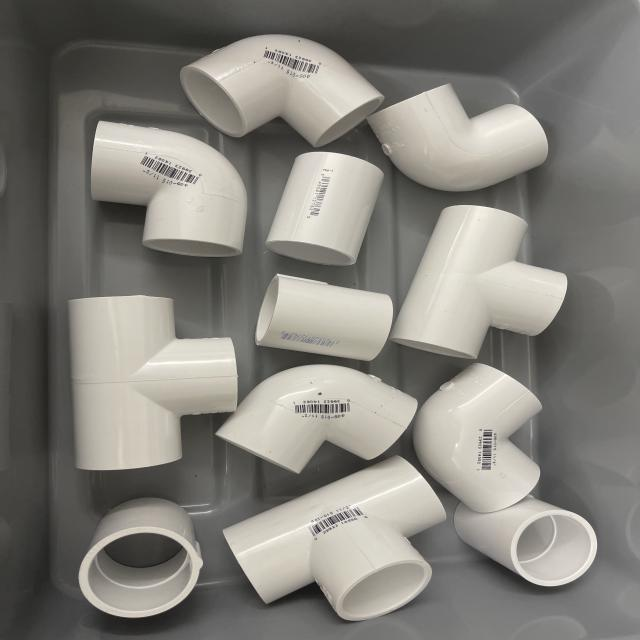L Joint: (182, 34, 388, 150), (88, 120, 248, 262), (214, 364, 418, 475), (380, 84, 548, 192), (419, 363, 543, 509)
T Joint: (223, 456, 447, 623), (67, 295, 238, 473), (389, 205, 567, 362)
